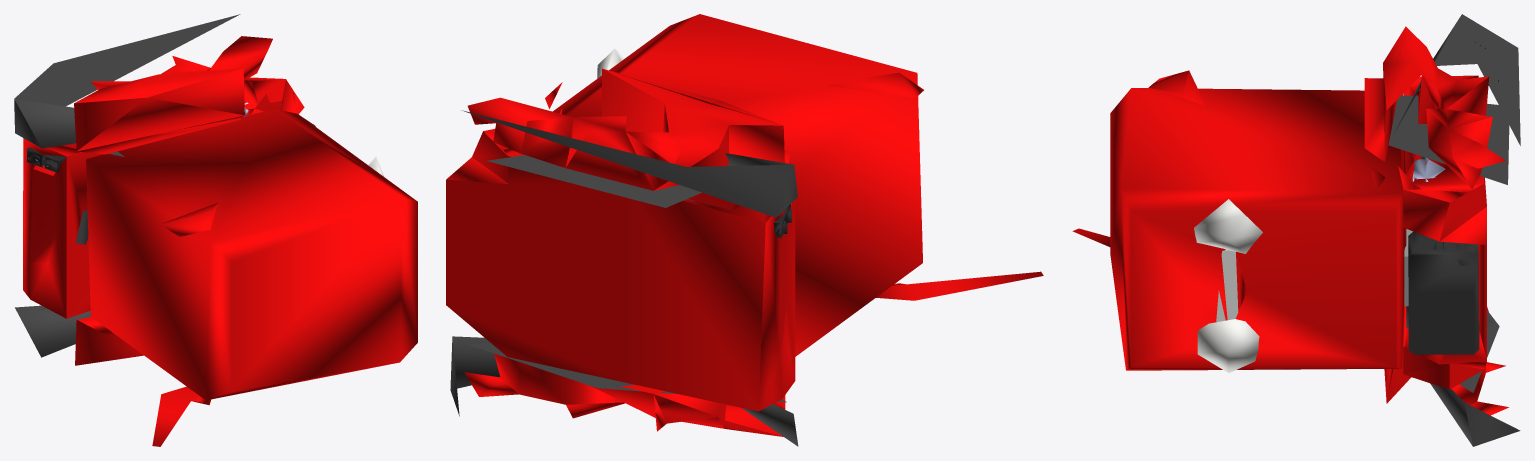
The model's file is model-lite.lod0.glb.
3 views of the same model, side by side, from view 1: azimuth 30°, elevation 25°; view 2: azimuth 150°, elevation 25°; view 3: azimuth 270°, elevation 25° (orthographic). The views are drawn at different scales.
Visible parts, largest first — view 1: fridgelink, metalsiding-right, Body1:3; view 2: fridgelink, metalsiding-right; view 3: fridgelink, metalsiding-right, Body1, Fridgedoor, Body2.
Part boxes in pixels (x1,y1,x2,y2): fridgelink: (23, 36, 417, 446); metalsiding-right: (14, 14, 240, 357); Body1:3: (26, 147, 65, 172); fridgelink: (446, 14, 1043, 436); metalsiding-right: (450, 110, 798, 446); fridgelink: (1072, 26, 1508, 416); metalsiding-right: (1364, 14, 1520, 446); Body1: (1408, 231, 1479, 354); Fridgedoor: (1194, 199, 1262, 372); Body2: (1412, 157, 1445, 182).
Size of the model in its own units: 35.79 by 28.38 by 39.28.
